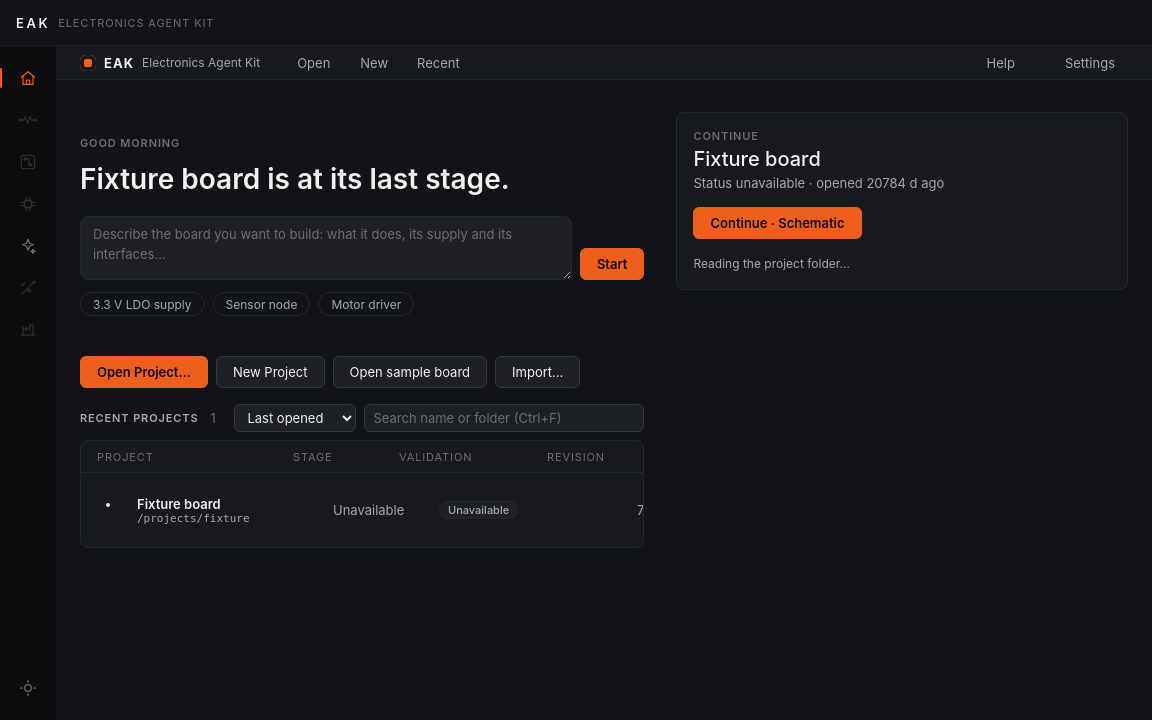
Test case: first-run tour › stays closed once finished, and Help in the workspace replays it as a corner panel
expect the heading "Recent projects" is shown: met, box [80,411,198,425]
expect the element "First-run tour" is not shown: met
Click the text "Fixture board" below "Validation" at (179, 504), box [137,496,221,512]
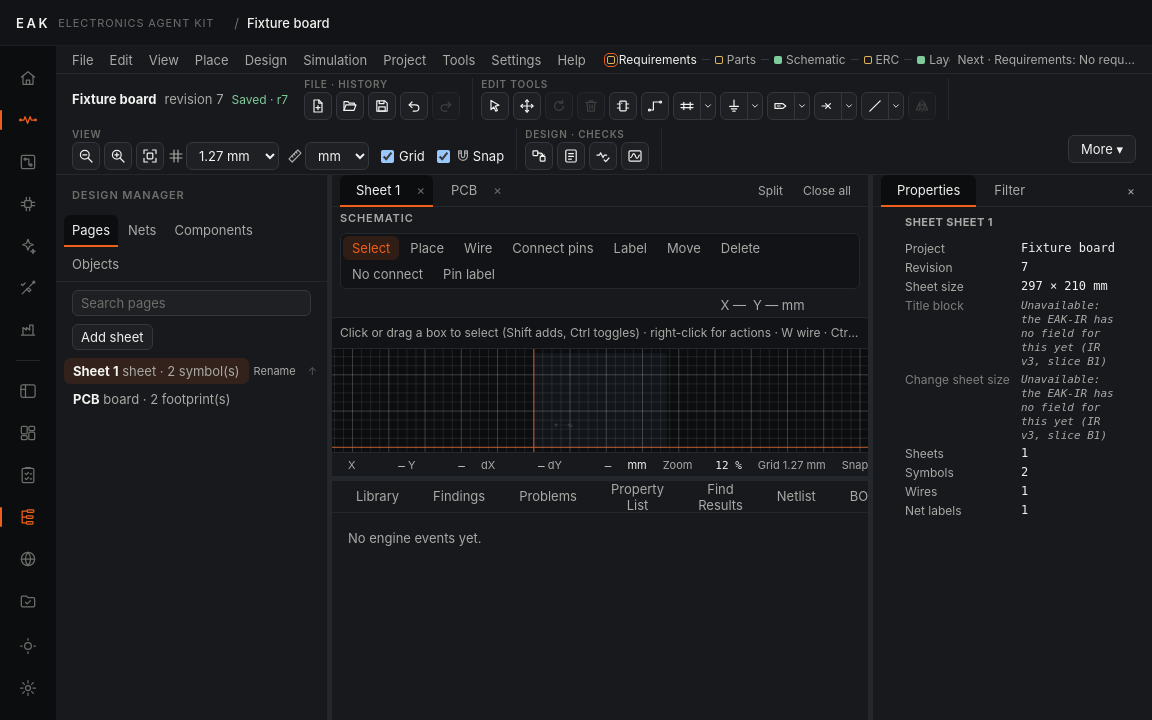
Click the button "Help" at (572, 60), box [549,48,594,72]
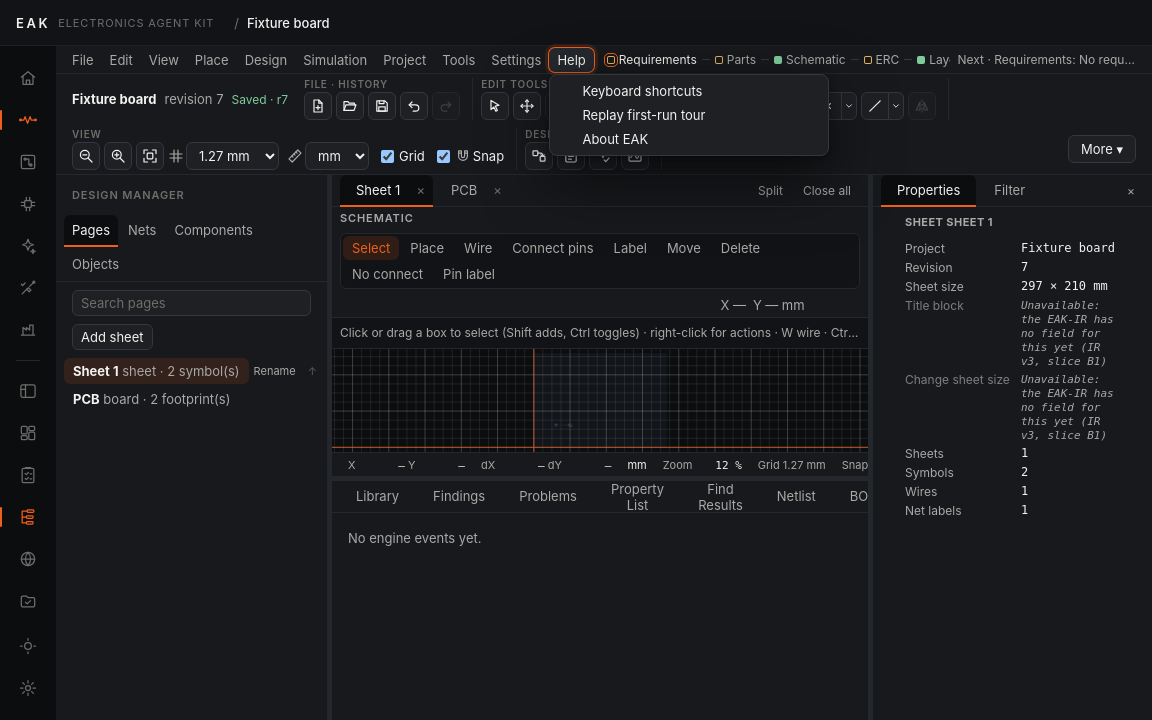
Click the menu item "Replay first-run tour" at (689, 114), box [554,102,824,126]
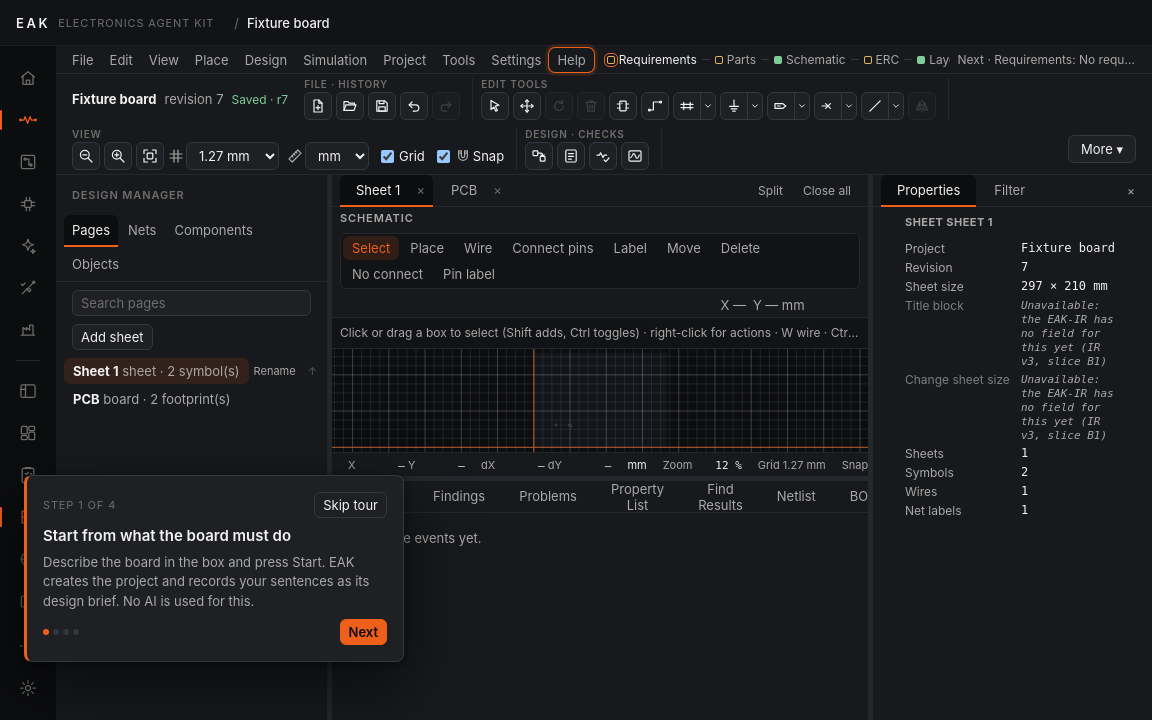
Click the button "Skip tour" at (351, 504), box [314,492,387,518]
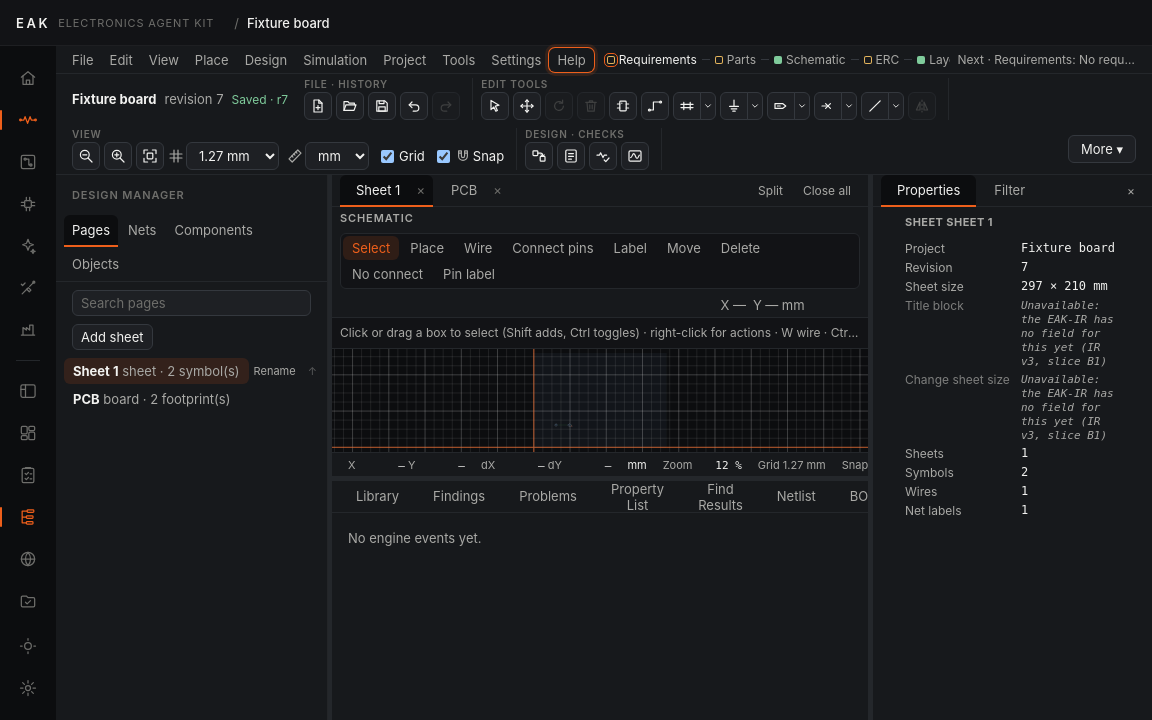
expect the element "First-run tour" is gone: met
